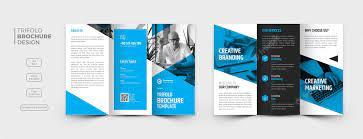paper: (214, 23, 347, 116), (68, 24, 196, 115)
